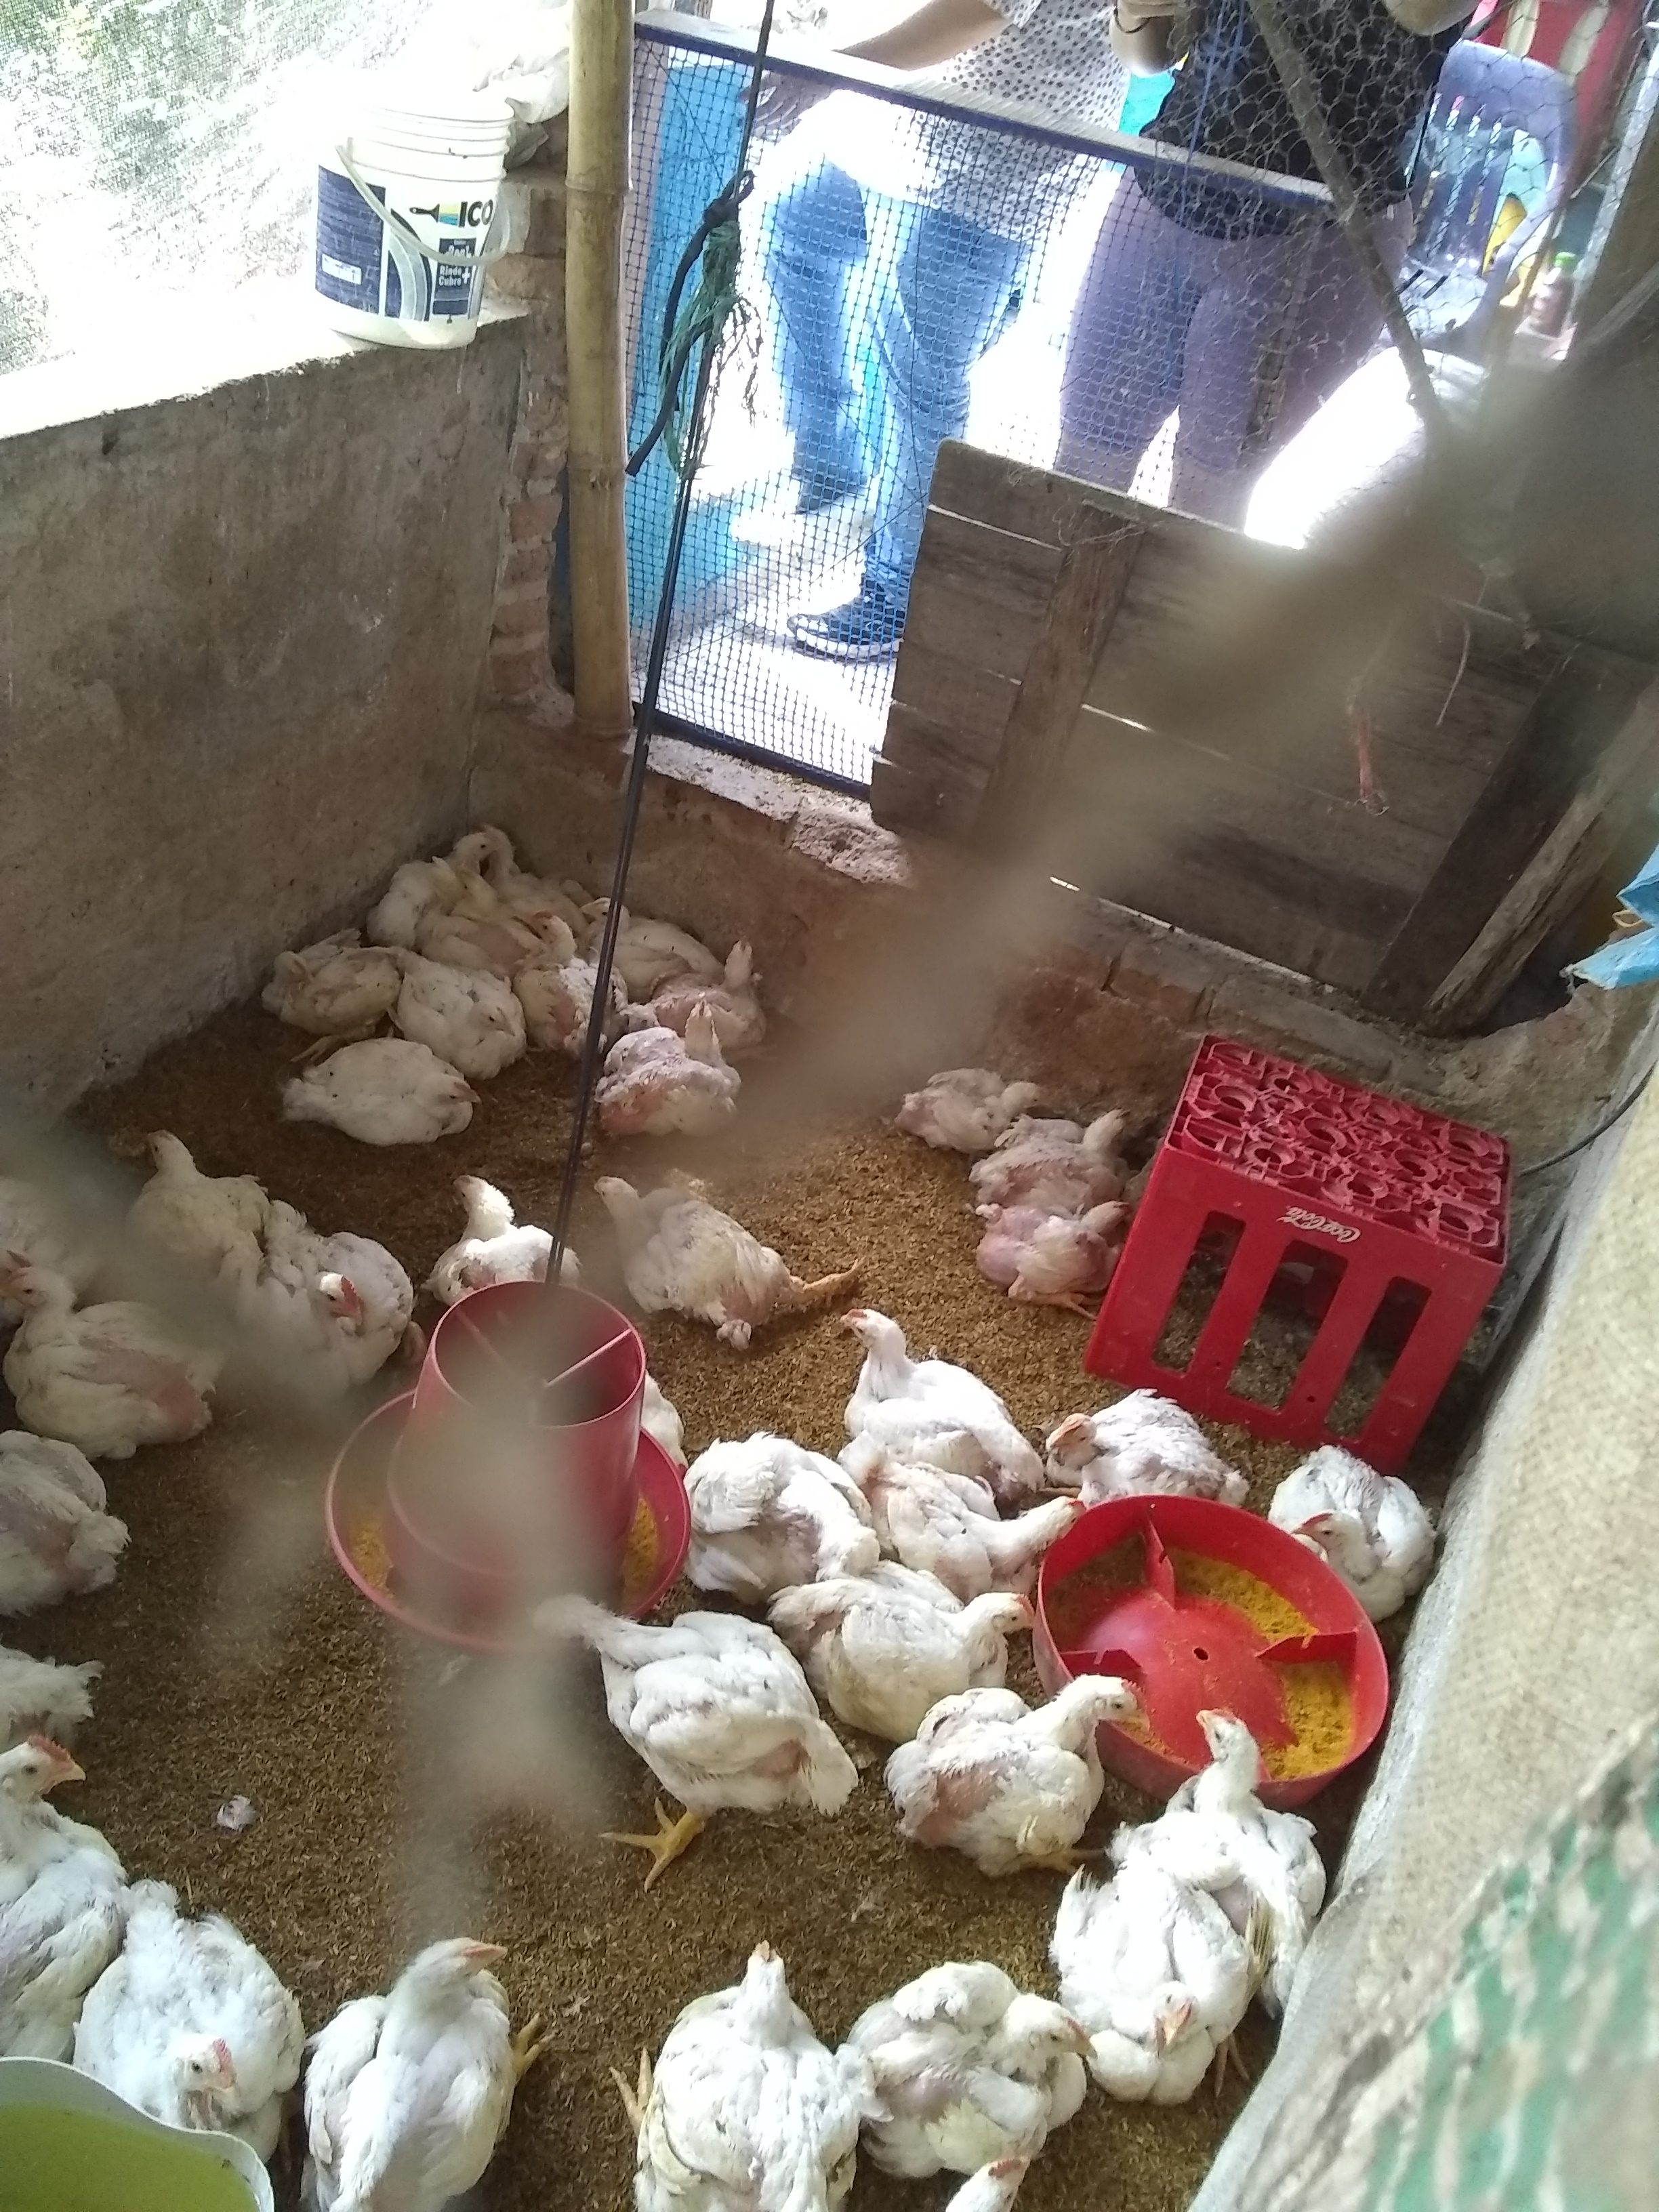Pollos: (512, 1568, 845, 1848), (260, 1928, 573, 2212), (1046, 1838, 1263, 2123), (85, 1876, 291, 2165), (643, 1944, 863, 2209), (843, 1946, 1098, 2163), (0, 1721, 150, 2067), (582, 1162, 861, 1345), (892, 1676, 1157, 1860), (798, 1536, 1033, 1742), (833, 1296, 1046, 1494), (1194, 1705, 1358, 1958), (676, 1426, 868, 1623), (0, 1268, 214, 1439), (1288, 1402, 1432, 1637), (247, 1202, 411, 1402), (1051, 1378, 1227, 1554), (873, 1449, 1077, 1592), (275, 1033, 497, 1153), (0, 1418, 134, 1599), (117, 1109, 253, 1282), (427, 1167, 579, 1310), (589, 1005, 741, 1143), (878, 1028, 1046, 1148), (972, 1191, 1127, 1317), (988, 1066, 1150, 1181), (401, 949, 535, 1080), (261, 927, 403, 1031), (523, 916, 613, 1050), (589, 880, 699, 986), (479, 806, 568, 921), (403, 833, 516, 921), (945, 2128, 1046, 2212), (706, 923, 777, 1021)
